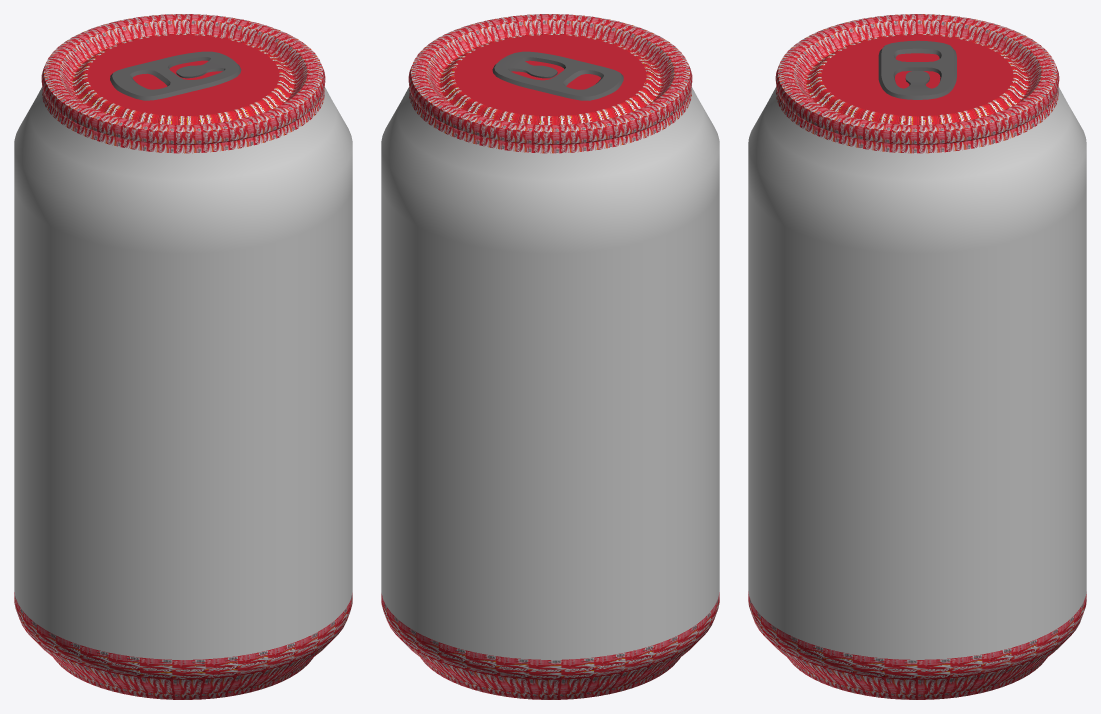
File: cola_can.fbx
3 renders of one model, left to right at view 1: azimuth 30°, elevation 25°; view 2: azimuth 150°, elevation 25°; view 3: azimuth 270°, elevation 25°, orthographic.
Visible parts, largest first — view 1: Cola_Can, Opener; view 2: Cola_Can, Opener; view 3: Cola_Can, Opener.
Boxes of the visible parts, <box> form: Cola_Can: <box>14,14,352,699</box>; Opener: <box>110,51,241,100</box>; Cola_Can: <box>381,14,719,699</box>; Opener: <box>492,51,623,100</box>; Cola_Can: <box>748,14,1086,699</box>; Opener: <box>878,40,956,99</box>.
Bounding box in the file's own units: 8.57 × 16.01 × 8.57.
